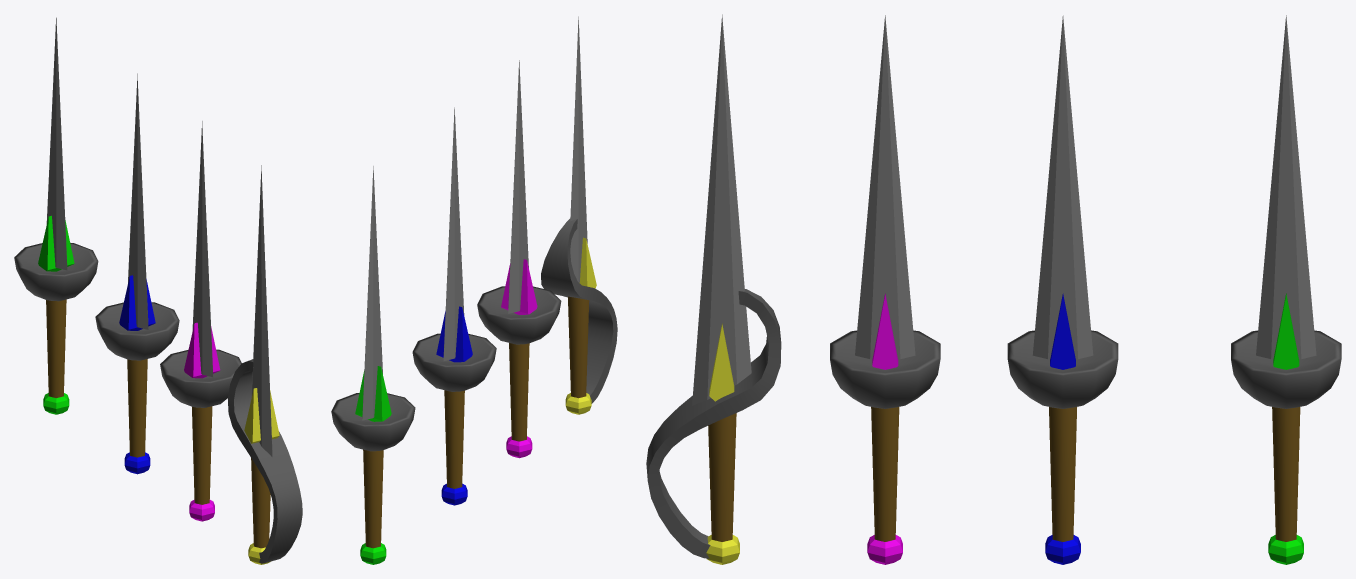
File: rapier.fbx
The picture shows the model from 3 angles, left to right: view 1: azimuth 30°, elevation 25°; view 2: azimuth 150°, elevation 25°; view 3: azimuth 270°, elevation 25°; orthographic projection. The views are drawn at different scales.
Parts seen in each view (by area): view 1: rapier4, rapier2, rapier1, rapier3; view 2: rapier4, rapier1, rapier2, rapier3; view 3: rapier4, rapier2, rapier1, rapier3.
Boxes of the visible parts, x1=… form: rapier4: x1=227, y1=165, x2=302, y2=564; rapier2: x1=95, y1=73, x2=179, y2=474; rapier1: x1=14, y1=17, x2=98, y2=414; rapier3: x1=160, y1=121, x2=241, y2=521; rapier4: x1=541, y1=16, x2=617, y2=414; rapier1: x1=331, y1=166, x2=415, y2=564; rapier2: x1=412, y1=107, x2=496, y2=505; rapier3: x1=477, y1=60, x2=561, y2=458; rapier4: x1=646, y1=14, x2=781, y2=564; rapier2: x1=1007, y1=15, x2=1118, y2=564; rapier1: x1=1231, y1=15, x2=1341, y2=564; rapier3: x1=830, y1=15, x2=940, y2=564.
Bounding box in the file's own units: 0.2791 × 1.45 × 1.67.
